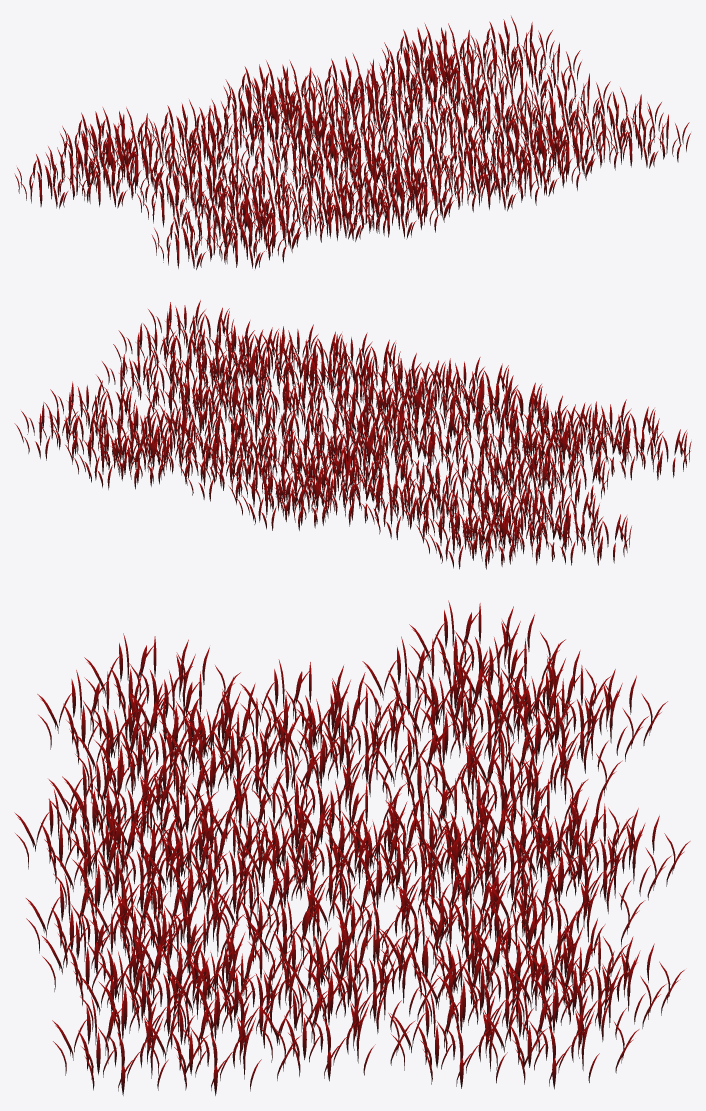
File: grass.fbx
3 renders of one model, top to bottom at view 1: azimuth 30°, elevation 25°; view 2: azimuth 150°, elevation 25°; view 3: azimuth 270°, elevation 25°, orthographic. The views are drawn at different scales.
Visible parts, largest first — view 1: Grass.061; view 2: Grass.061; view 3: Grass.061.
Part boxes in pixels (left/top/right/bottom): Grass.061: left=14, top=16, right=690, bottom=269; Grass.061: left=14, top=300, right=691, bottom=569; Grass.061: left=14, top=600, right=690, bottom=1095.
Bounding box in the file's own units: 23.07 × 1.44 × 14.28.
